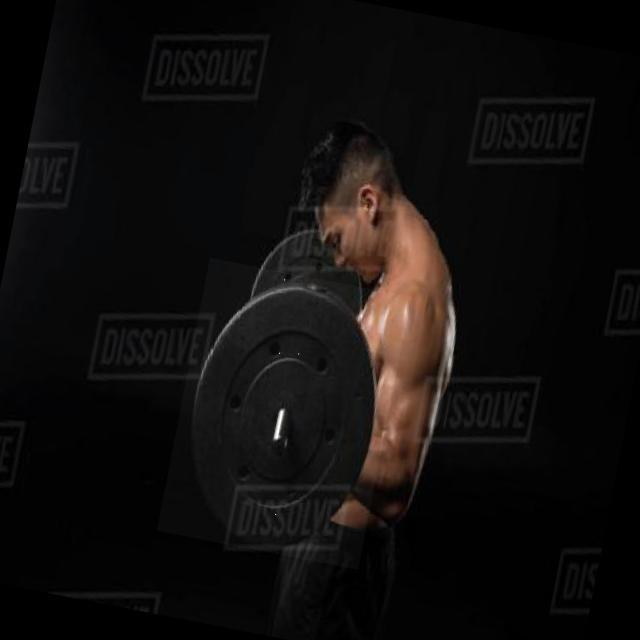barbell: (158, 259, 412, 571)
